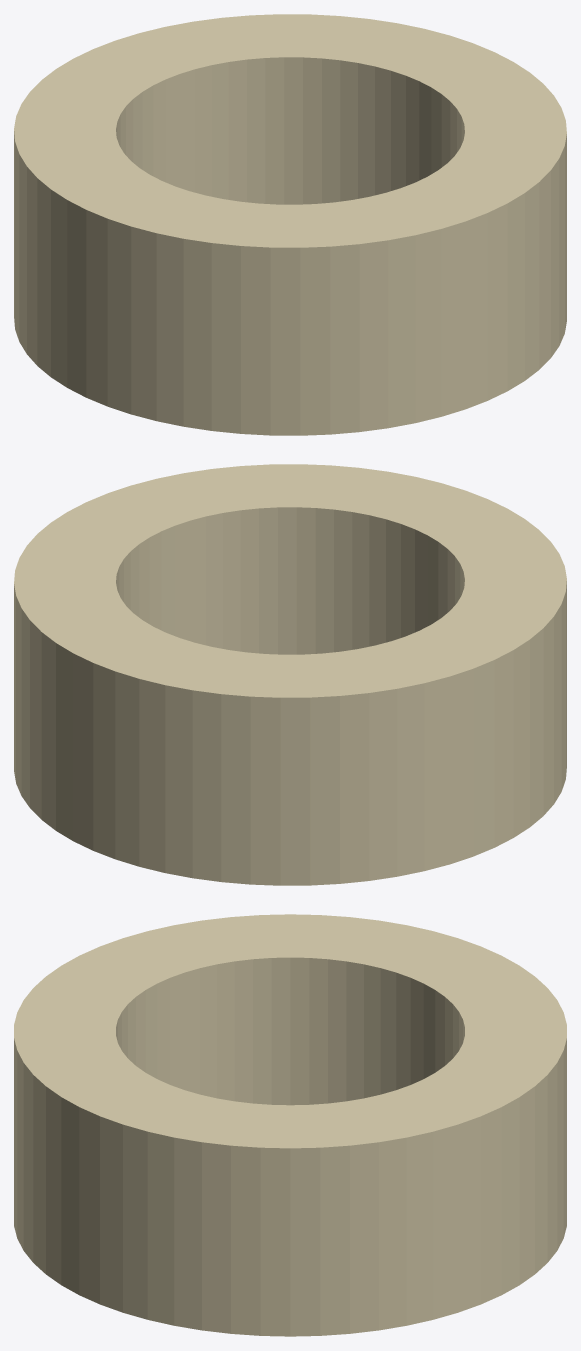
Rendered from starter-nose-bushing.glb.
The picture shows the model from 3 angles, top to bottom: view 1: azimuth 30°, elevation 25°; view 2: azimuth 150°, elevation 25°; view 3: azimuth 270°, elevation 25°; orthographic projection.
Visible parts, largest first — view 1: world; view 2: world; view 3: world.
Boxes of the visible parts, box(x1,y1,x2,y2) form: world: box(14, 14, 566, 435); world: box(14, 464, 566, 885); world: box(14, 914, 566, 1336).
Size of the model in its own units: 0.016 by 0.006 by 0.016.
